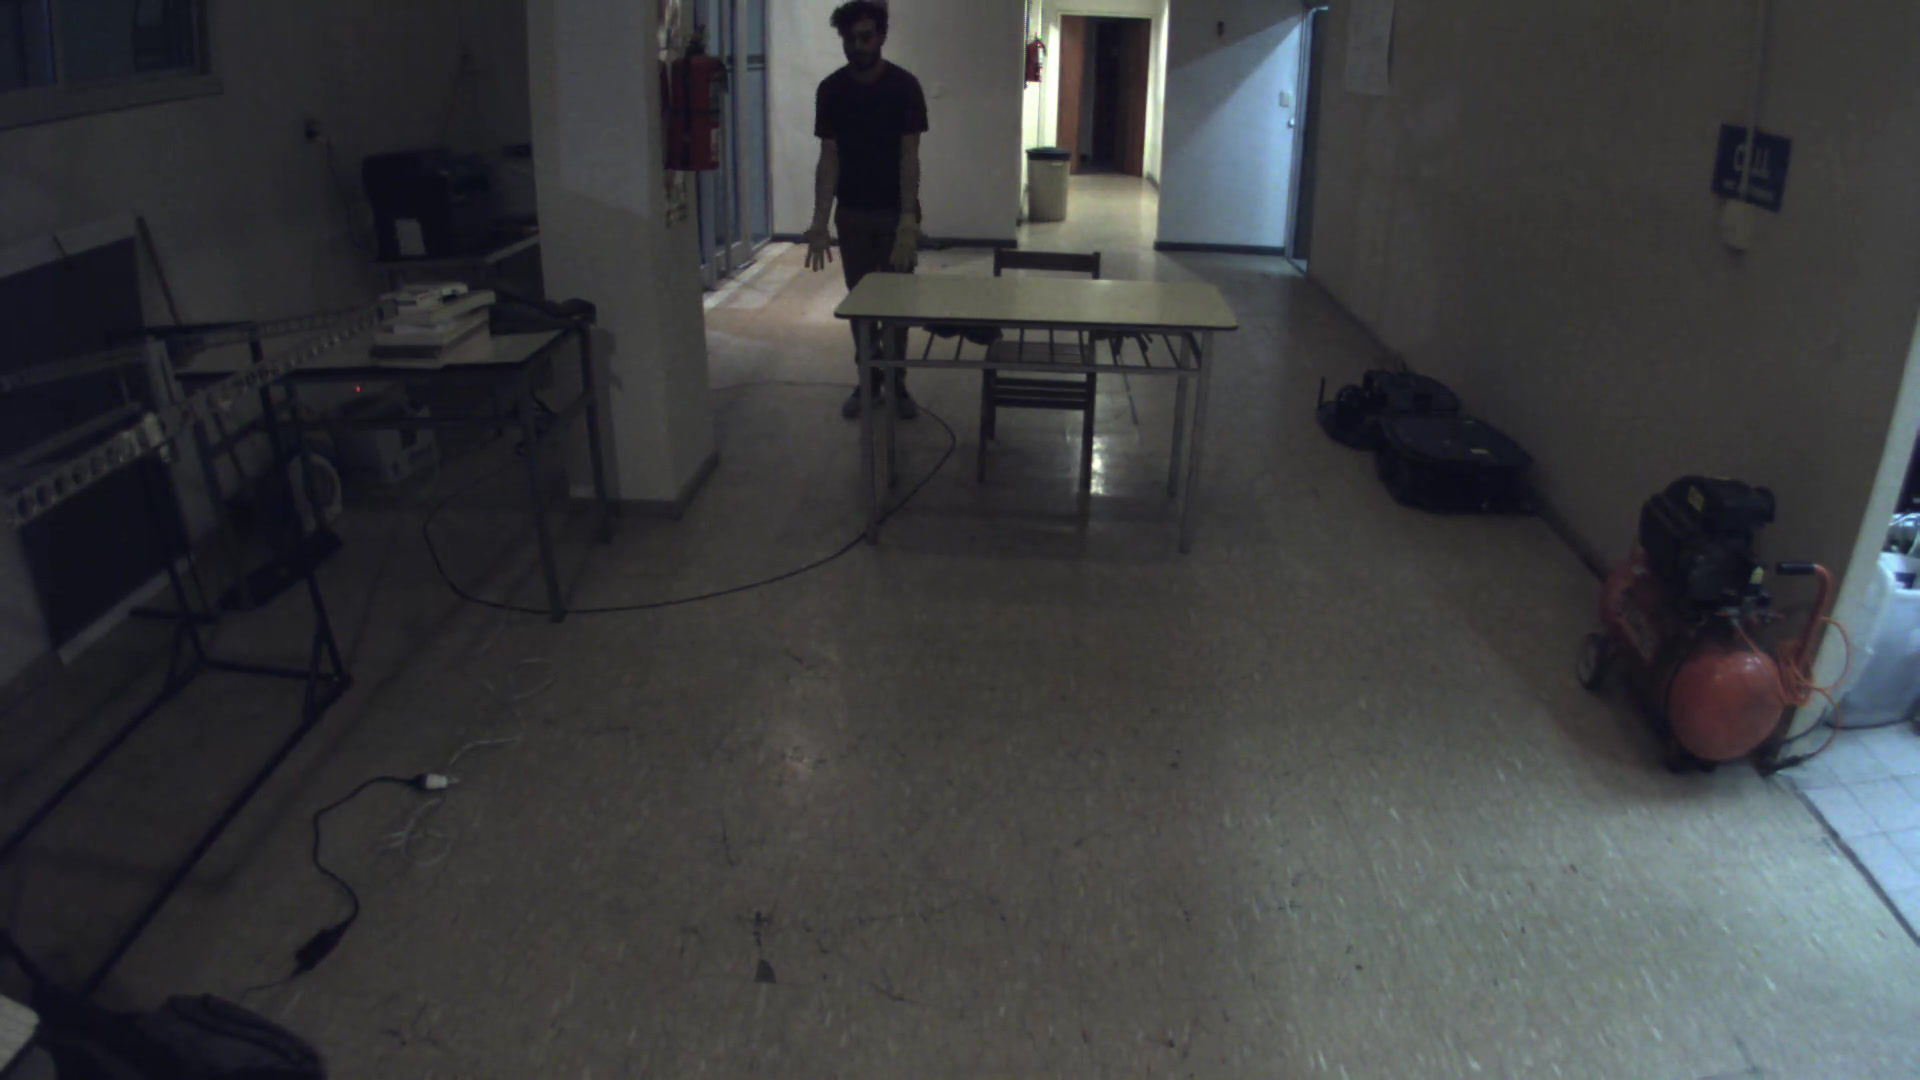hand: (878, 198, 942, 280), (795, 193, 847, 276)
